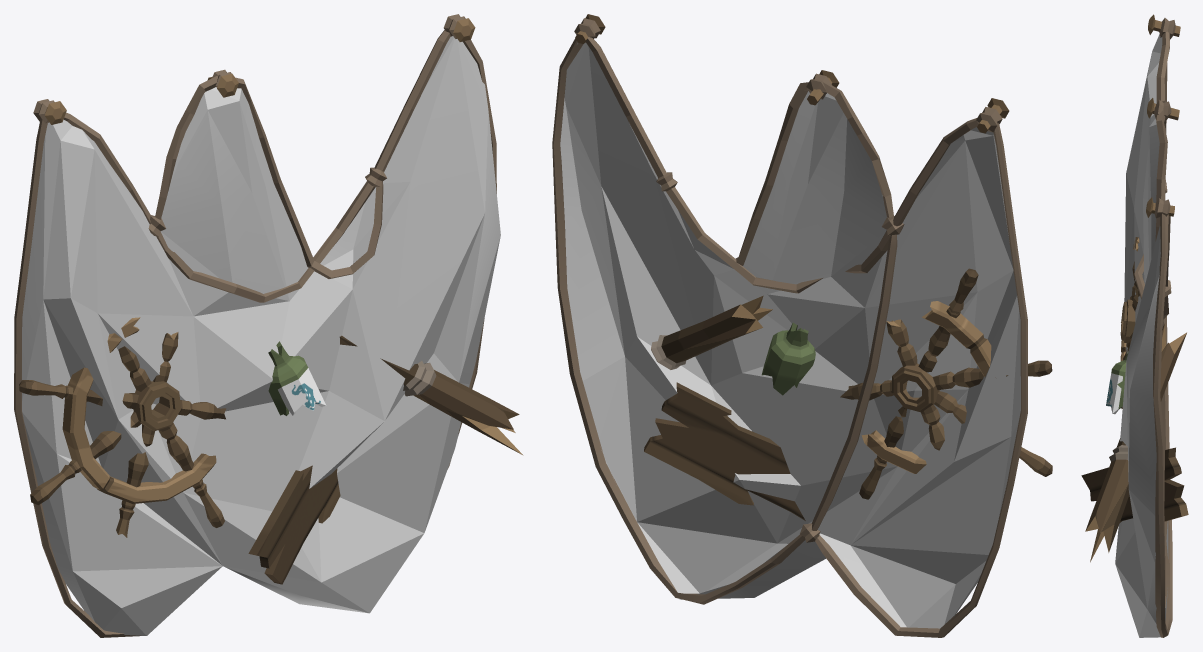
Rendered from SM_Prop_Net_02.fbx.
3 renders of one model, left to right at view 1: azimuth 30°, elevation 25°; view 2: azimuth 150°, elevation 25°; view 3: azimuth 270°, elevation 25°, orthographic. The views are drawn at different scales.
Parts seen in each view (by area): view 1: SM_Prop_Net_02; view 2: SM_Prop_Net_02; view 3: SM_Prop_Net_02.
Boxes of the visible parts, left/top/right/bottom form: SM_Prop_Net_02: left=14, top=14, right=523, bottom=637; SM_Prop_Net_02: left=552, top=14, right=1052, bottom=637; SM_Prop_Net_02: left=1081, top=14, right=1188, bottom=637.
Size of the model in its own units: 230 by 261 by 51.3.
